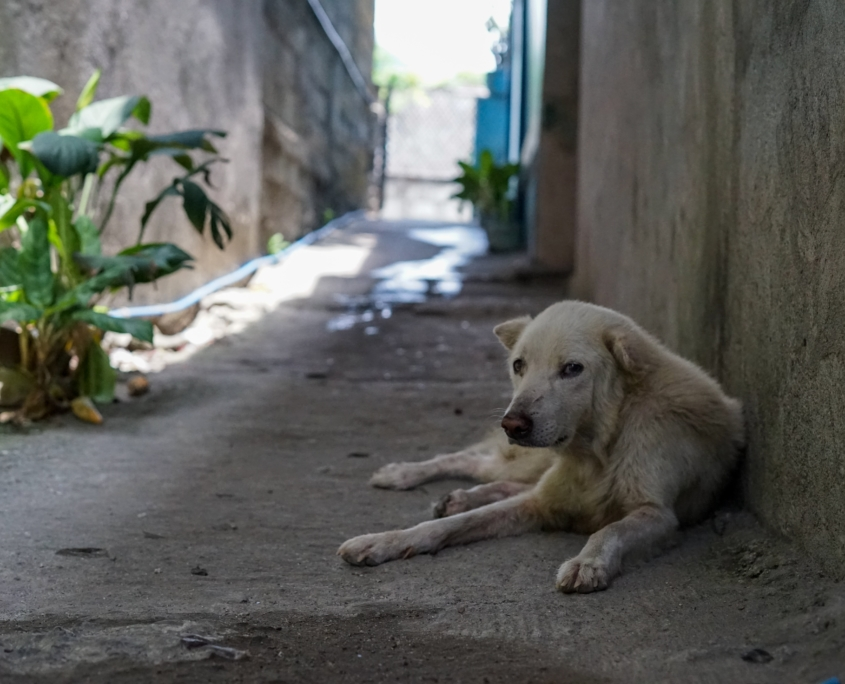Dog: (328, 272, 762, 608)
